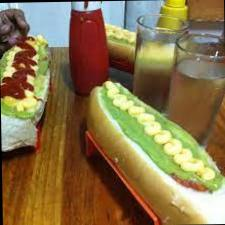Completos: (84, 76, 225, 225), (0, 24, 48, 143)
